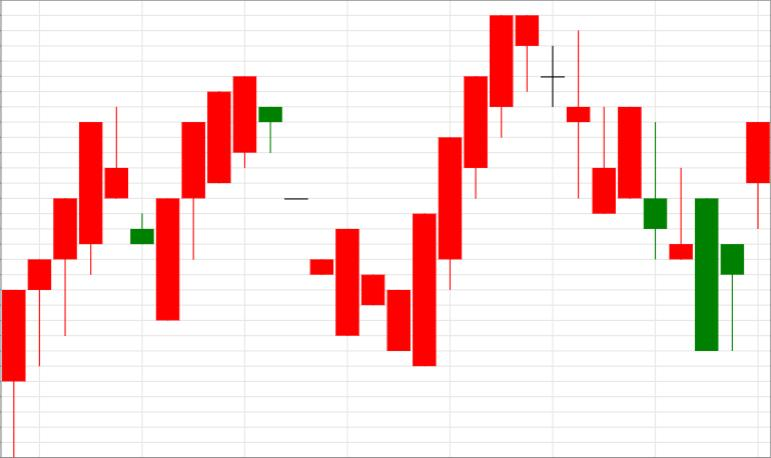three_white_soldiers_rise: (336, 15, 514, 366)
